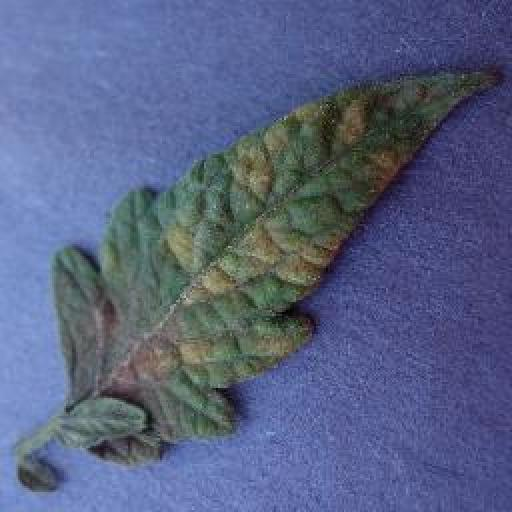disease_tomato: (59, 64, 503, 465)
